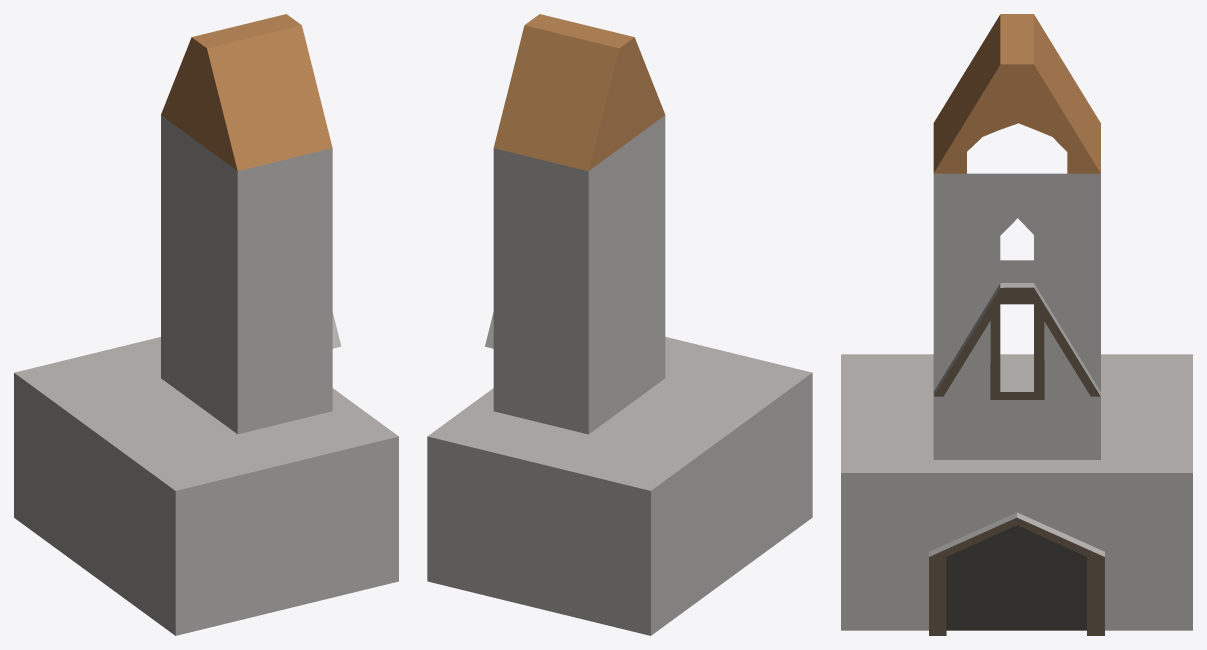
Rendered from church.glb.
3 views of the same model, side by side, from view 1: azimuth 30°, elevation 25°; view 2: azimuth 150°, elevation 25°; view 3: azimuth 270°, elevation 25° (orthographic). The views are drawn at different scales.
Parts seen in each view (by area): view 1: pCube4, pCube3; view 2: pCube4, pCube3; view 3: pCube4, pCube3.
Boxes of the visible parts, box(x1,y1,x2,y2) form: pCube4: box(14, 337, 398, 635); pCube3: box(161, 14, 341, 434); pCube4: box(427, 337, 812, 635); pCube3: box(485, 14, 665, 434); pCube4: box(841, 354, 1192, 635); pCube3: box(933, 14, 1100, 459).
Size of the model in its own units: 5.28 by 11 by 6.34.
